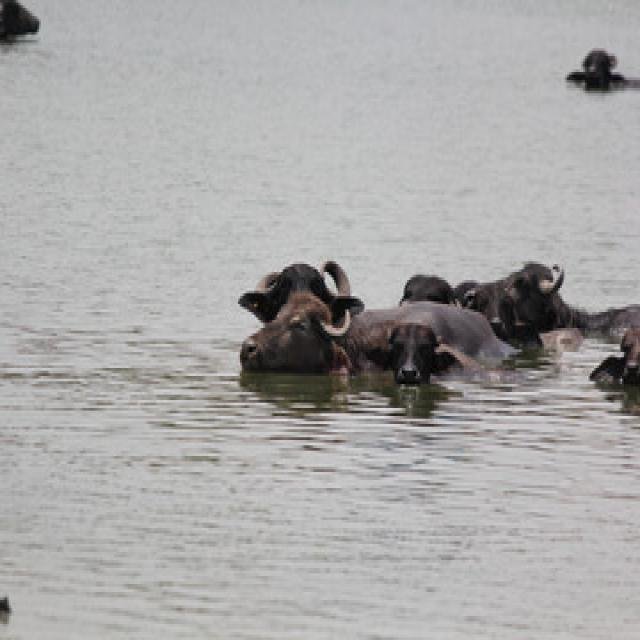Buffalo: (237, 287, 392, 381)
